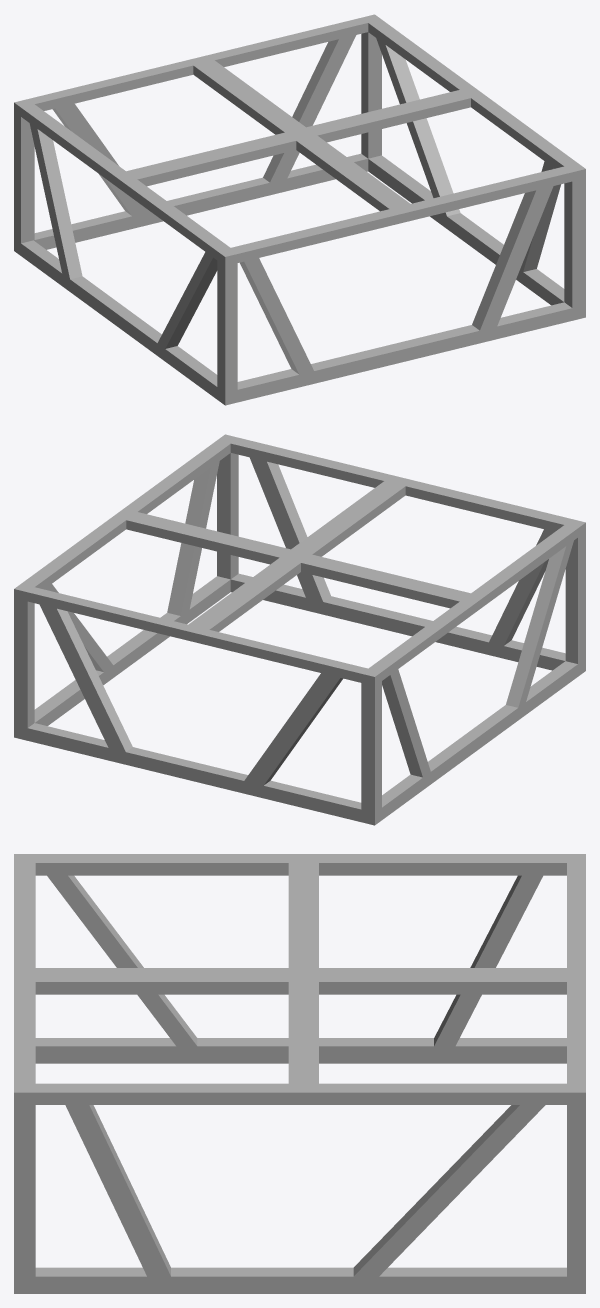
File: LargeJumpDriveCharger_Large_Constr1.fbx
3 renders of one model, top to bottom at view 1: azimuth 30°, elevation 25°; view 2: azimuth 150°, elevation 25°; view 3: azimuth 270°, elevation 25°, orthographic. The views are drawn at different scales.
Visible parts, largest first — view 1: Cube.002; view 2: Cube.002; view 3: Cube.002.
Part boxes in pixels (left/top/right/bottom): Cube.002: left=14, top=14, right=585, bottom=405; Cube.002: left=14, top=434, right=585, bottom=825; Cube.002: left=14, top=854, right=585, bottom=1293.
Bounding box in the file's own units: 6.92 × 2.72 × 7.01.
